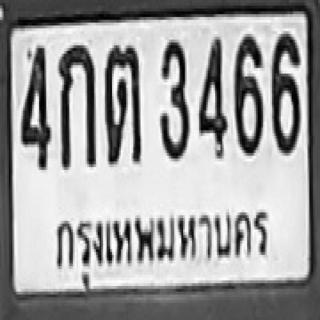A01: (57, 42, 94, 167)
A21: (103, 42, 140, 162)
N03: (158, 37, 188, 159)
N04: (20, 42, 50, 167), (197, 34, 226, 156)
N06: (270, 31, 299, 153), (233, 34, 261, 153)
P04: (48, 204, 278, 278)
